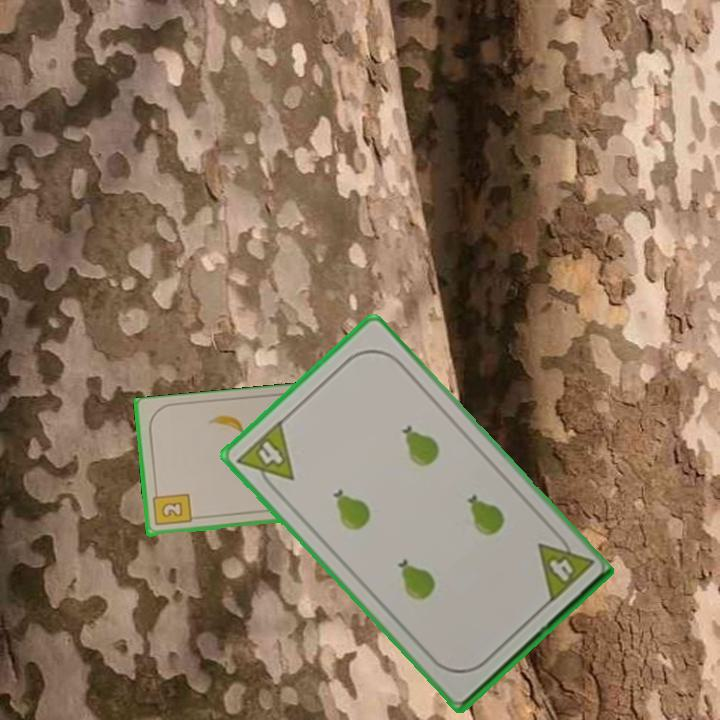2b: (149, 487, 193, 529)
4p: (233, 417, 297, 497), (533, 527, 596, 607)
